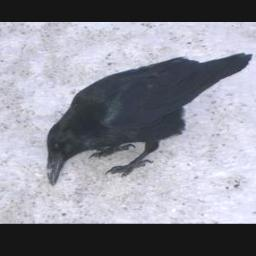Crow: (48, 52, 256, 185)
